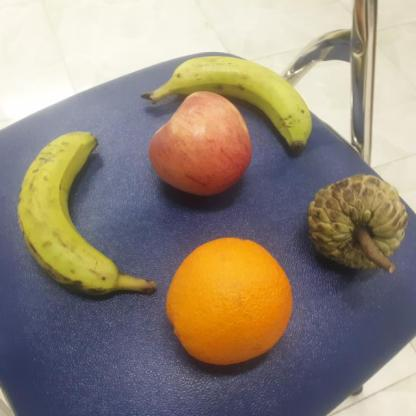annona: (308, 170, 410, 273)
apple: (148, 90, 256, 197)
banana: (15, 129, 119, 302)
orange: (166, 236, 294, 364)
